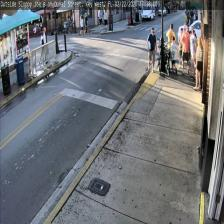person: (193, 36, 202, 91), (147, 27, 157, 72), (181, 26, 190, 76), (188, 29, 196, 80), (166, 24, 176, 62), (170, 36, 179, 75), (177, 27, 184, 67), (185, 24, 191, 65), (190, 25, 196, 65)
